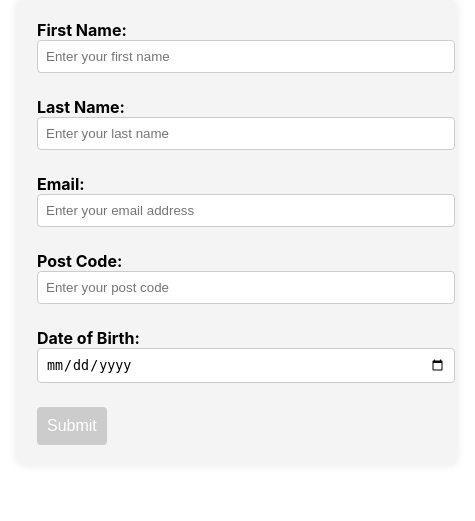
Test: handleSubmission displays error message and alert for invalid first name
Type "John&" into the field labelled "First Name:" at (246, 56), box [37,40,455,73]
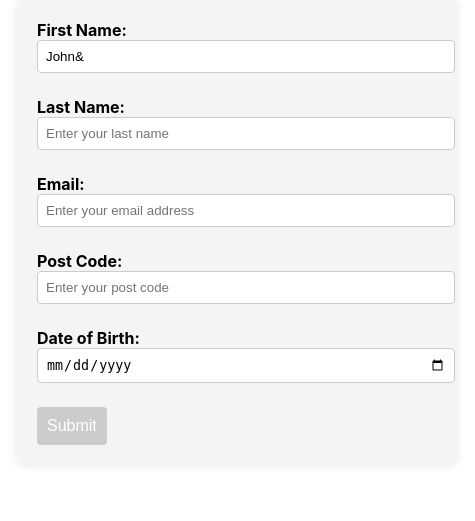
Type "Doe" into the field labelled "Last Name:" at (246, 134), box [37,117,455,150]
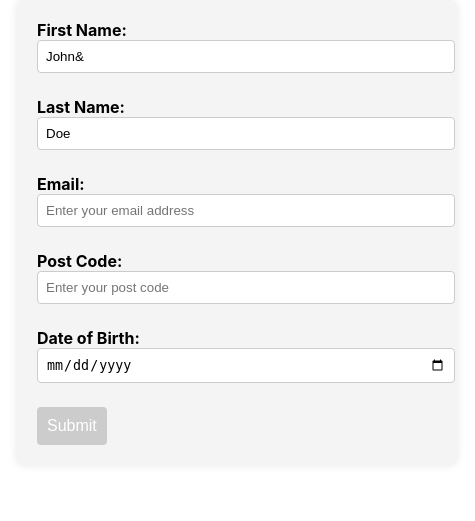
Type "test@test.com" into the field labelled "Email:" at (246, 210), box [37,194,455,227]
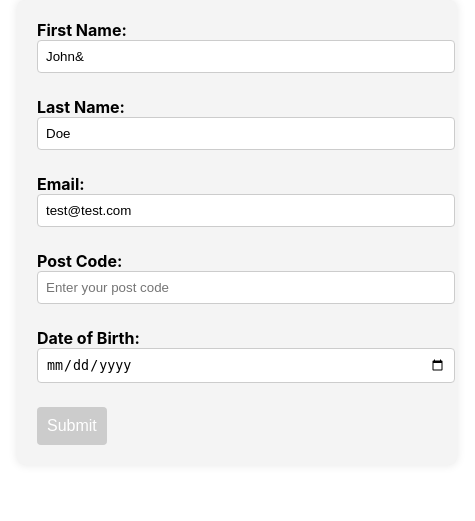
Type "12345" into the field labelled "Post Code:" at (246, 288), box [37,271,455,304]
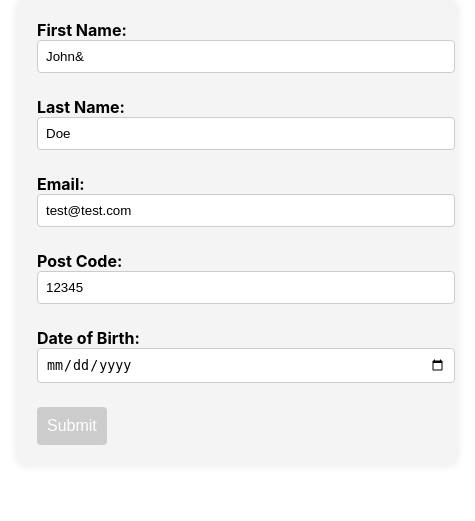
Type "1990-01-01" into the date field labelled "Date of Birth:" at (246, 366), box [37,348,455,383]
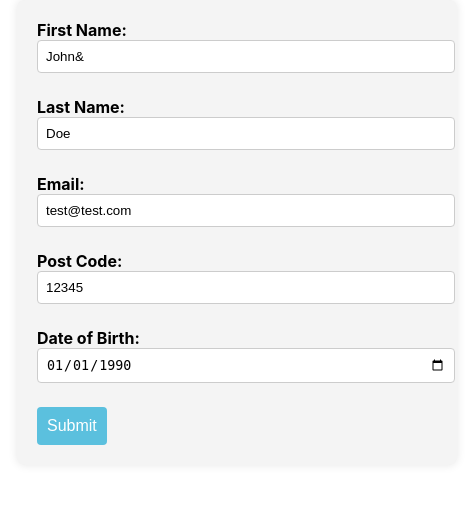
Click the button "Submit" at (72, 426), box [37,407,107,445]
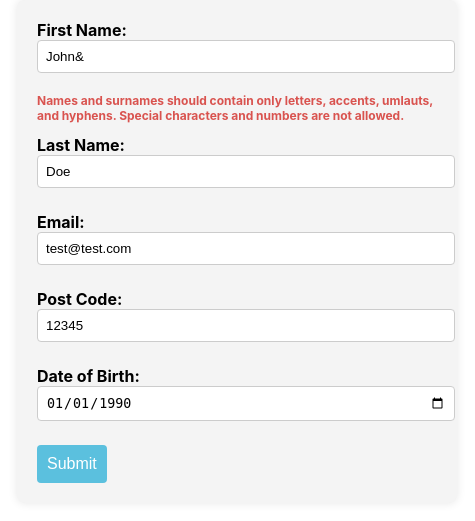
Result: the text with test id "errorFirstName" is shown at [37,93,437,123]
Result: the text with test id "errorFirstName" shows "Names and surnames should contain only letters, accents, umlauts, and hyphens. Special characters and numbers are not allowed." at [37,93,433,123]
